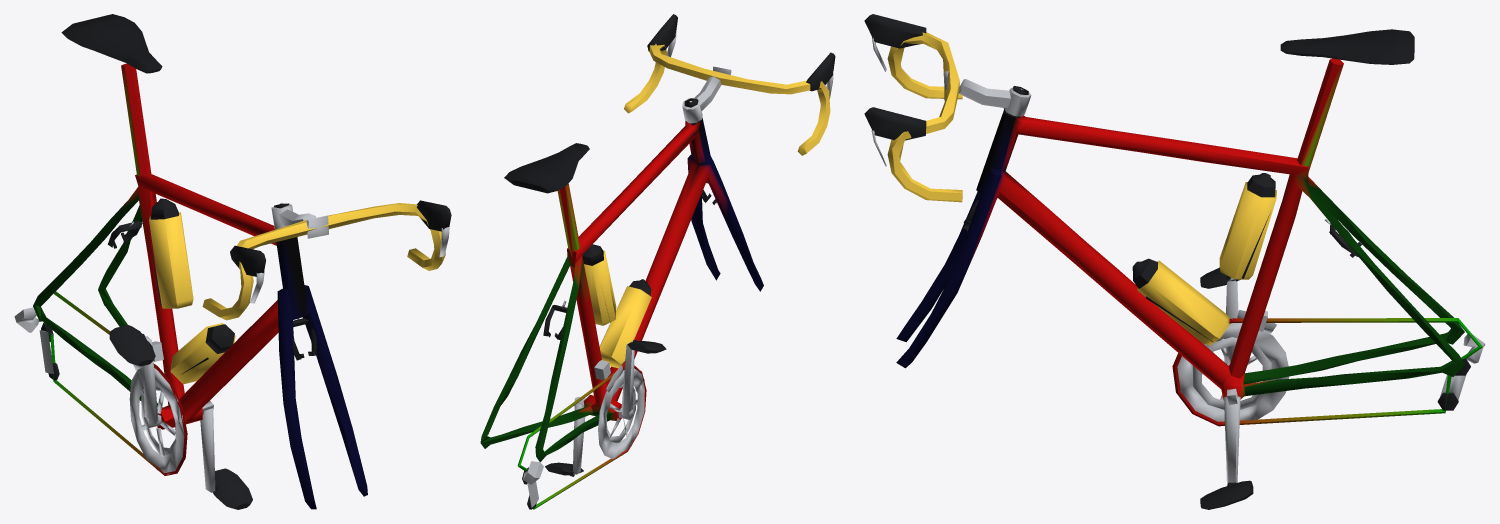
Rendered from retro_compact_lod1.glb.
3 renders of one model, left to right at view 1: azimuth 30°, elevation 25°; view 2: azimuth 150°, elevation 25°; view 3: azimuth 270°, elevation 25°, orthographic. The views are drawn at different scales.
Parts seen in each view (by area): view 1: frame, cockpit, opt_bottles, crankset, saddle, pedal_R, opt_derailleur, pedal_L, opt_brakes_rim; view 2: frame, cockpit, opt_bottles, crankset, saddle, opt_derailleur, opt_brakes_rim; view 3: frame, cockpit, opt_bottles, crankset, saddle, opt_derailleur, pedal_L.
Boxes of the visible parts, x1,y1,x2,y2 form: frame: (33, 63, 367, 509); cockpit: (202, 200, 451, 320); opt_bottles: (148, 198, 235, 383); crankset: (129, 336, 215, 492); saddle: (61, 14, 162, 73); pedal_R: (109, 325, 155, 366); opt_derailleur: (14, 307, 163, 380); pedal_L: (213, 468, 252, 509); opt_brakes_rim: (107, 221, 316, 360); frame: (480, 117, 763, 509); cockpit: (624, 14, 835, 155); opt_bottles: (582, 244, 651, 368); crankset: (573, 341, 644, 474); saddle: (504, 143, 589, 193); opt_derailleur: (522, 360, 622, 509); opt_brakes_rim: (543, 181, 716, 339); frame: (896, 58, 1482, 426); cockpit: (864, 14, 1031, 202); opt_bottles: (1132, 173, 1276, 345); crankset: (1177, 280, 1289, 484); saddle: (1280, 29, 1414, 64); opt_derailleur: (1237, 310, 1485, 410); pedal_L: (1200, 480, 1253, 509).
Bounding box in the file's own units: 0.4646 × 0.885 × 1.13.
